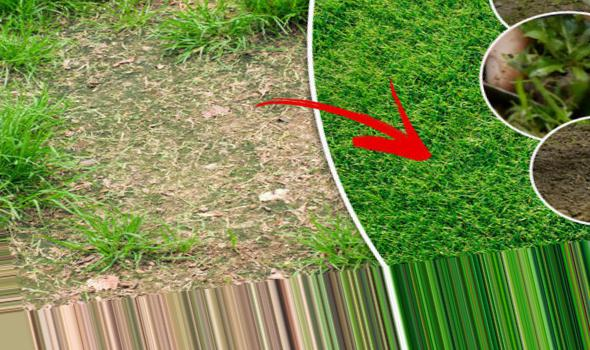patch: (87, 67, 307, 217), (531, 127, 590, 214)
